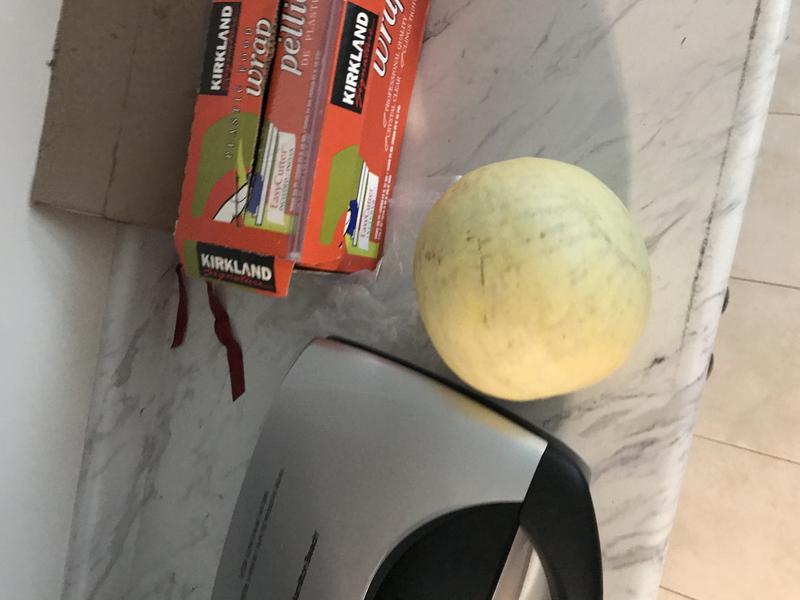honeydew: (408, 146, 670, 417)
